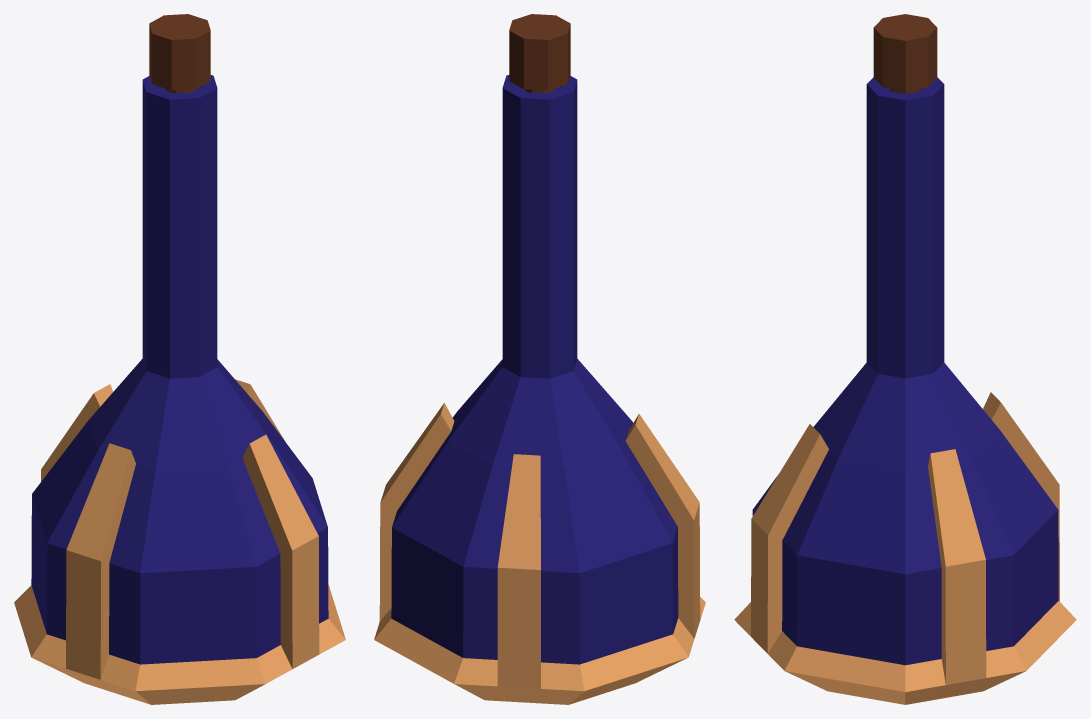
The model's file is Potion.glb.
3 renders of one model, left to right at view 1: azimuth 30°, elevation 25°; view 2: azimuth 150°, elevation 25°; view 3: azimuth 270°, elevation 25°, orthographic.
Parts seen in each view (by area): view 1: Potion; view 2: Potion; view 3: Potion.
Part boxes in pixels (<box>): Potion: <box>14,14,345,704</box>; Potion: <box>374,14,705,704</box>; Potion: <box>734,14,1076,704</box>.
Bounding box in the file's own units: 0.5738 × 1.17 × 0.5738.
